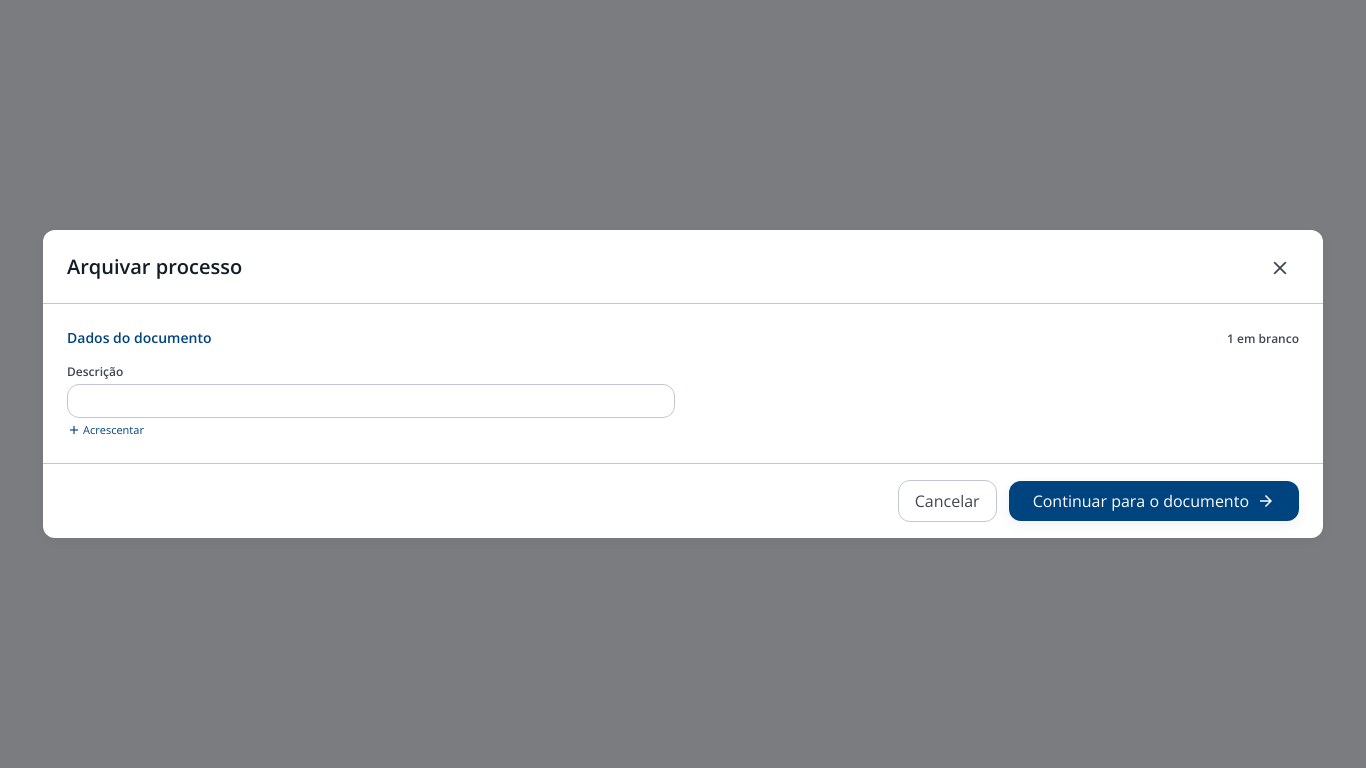
Test: DespachoModal - contexto e quantidade livre de valores › acrescenta quantos valores o caso exigir, sem convenção escondida
O input está associado ao label via htmlFor/id.
Type "piso irregular" into the text box labelled "Descrição" at (371, 401), box [67,384,675,418]
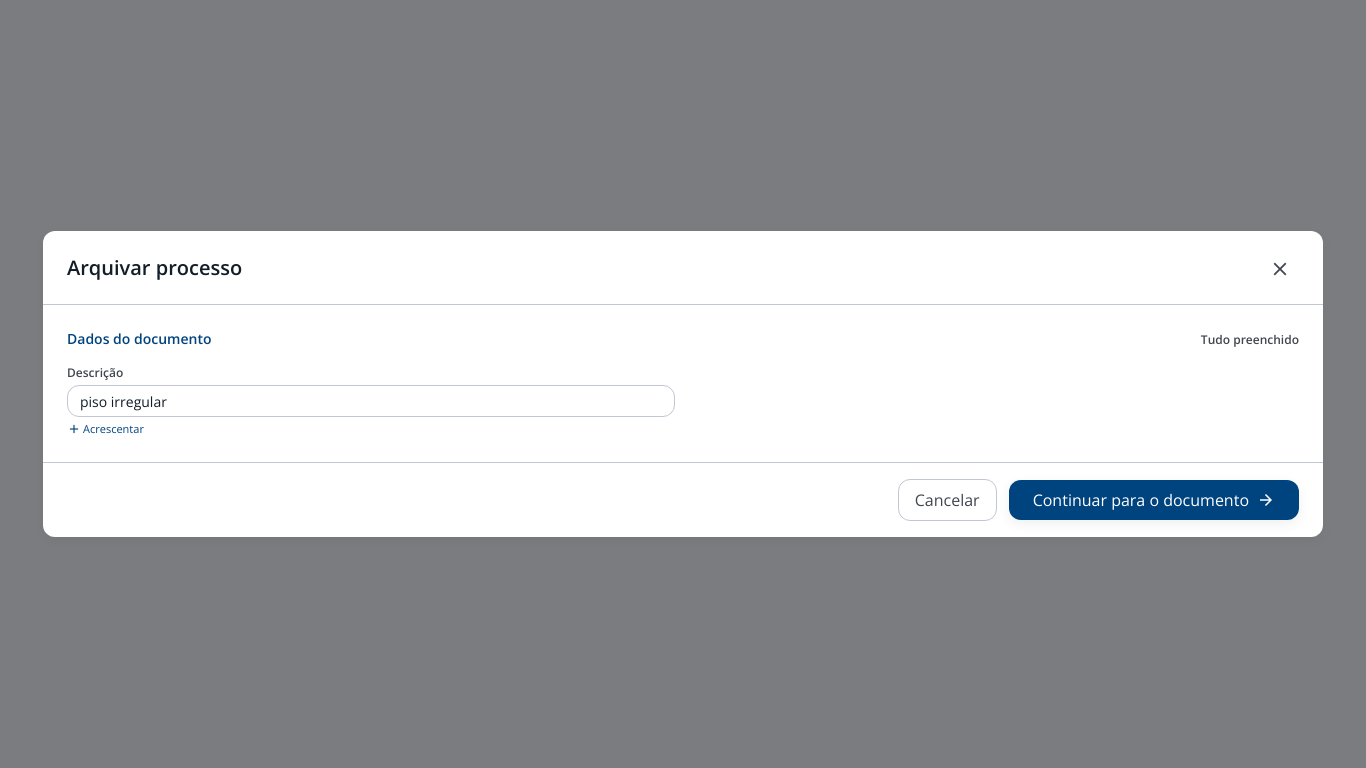
Três condutas numa lacuna que o modelo previa como uma.
Click the button "Acrescentar" at (105, 429), box [67,421,144,438]
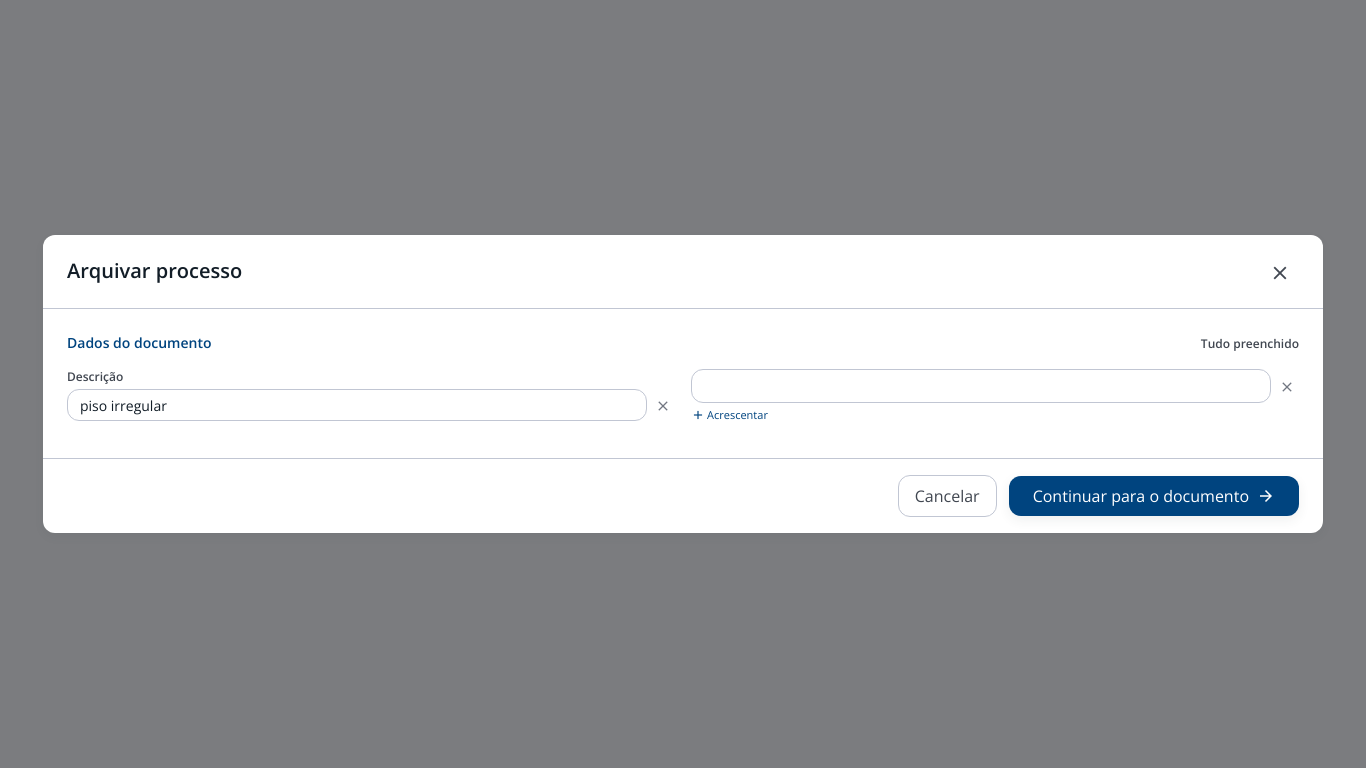
Type "extintor vencido" into the text box named "descrição — valor 2" at (981, 386), box [691,369,1271,403]
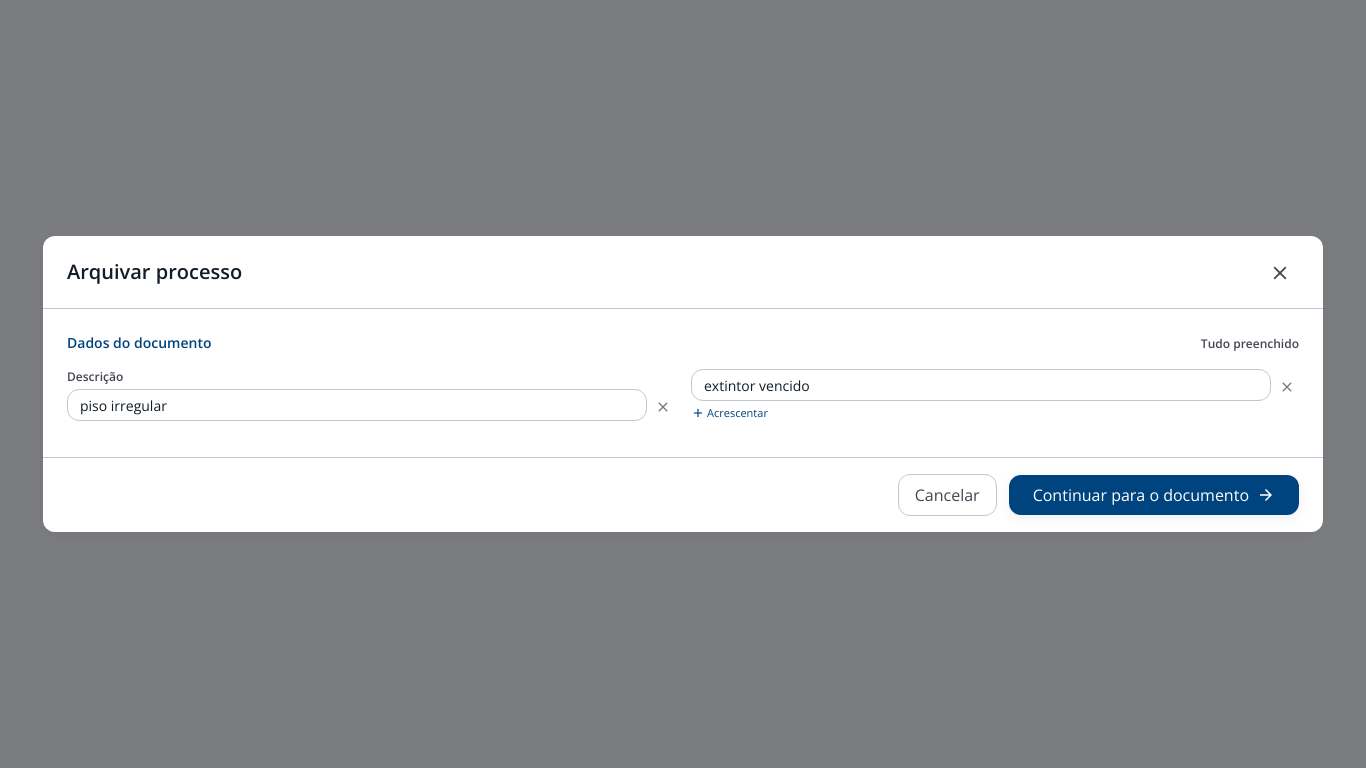
Click the button "Acrescentar" at (729, 413), box [691,405,768,422]
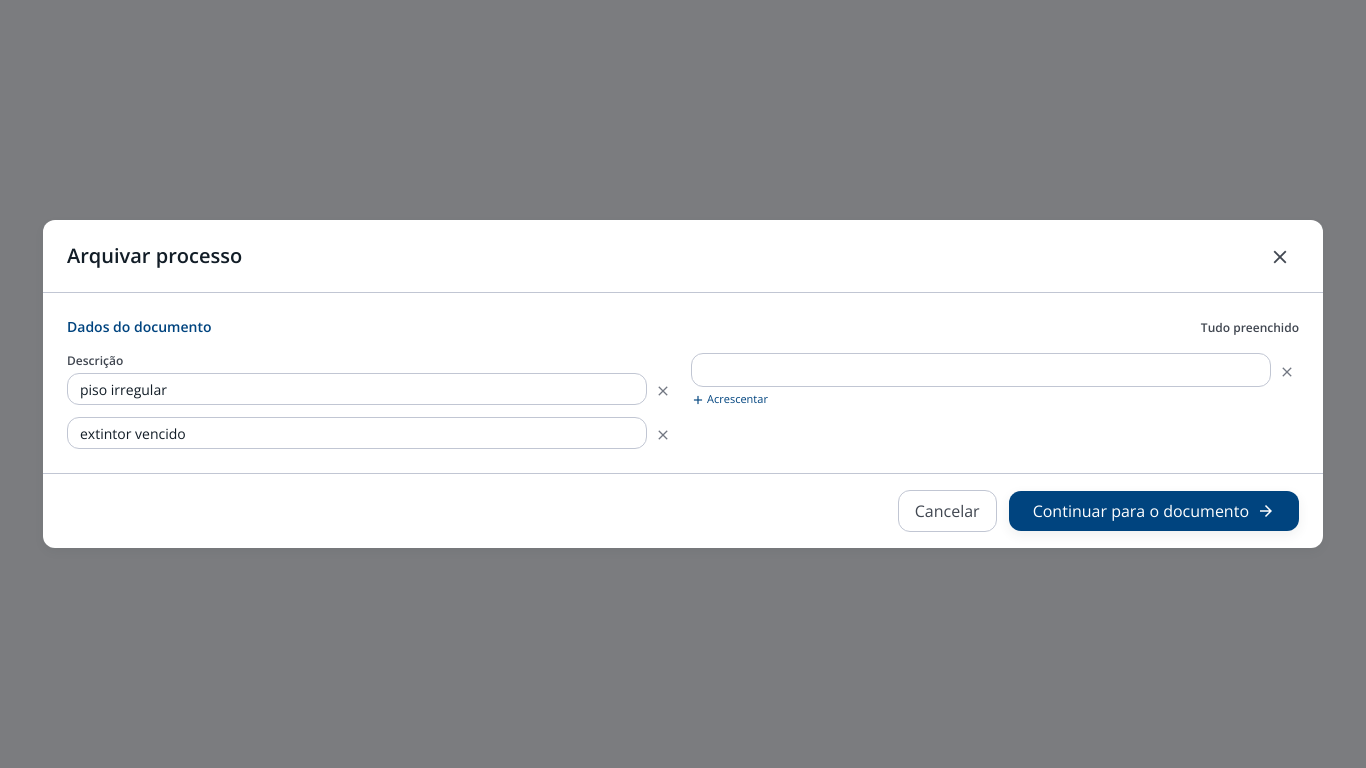
Type "sem sinalização" into the text box named "descrição — valor 3" at (981, 370), box [691,353,1271,387]
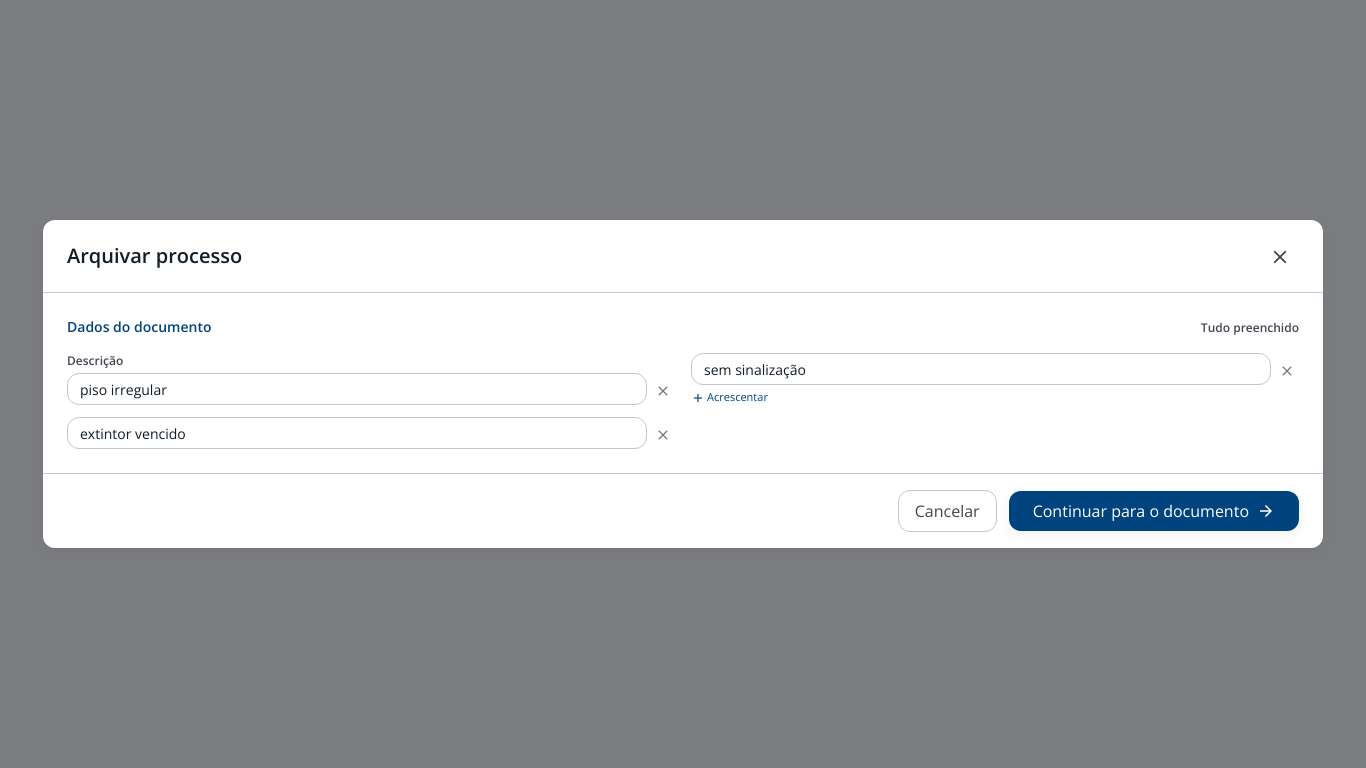
Click the button "Continuar para o documento" at (1154, 511), box [1009,491,1299,531]
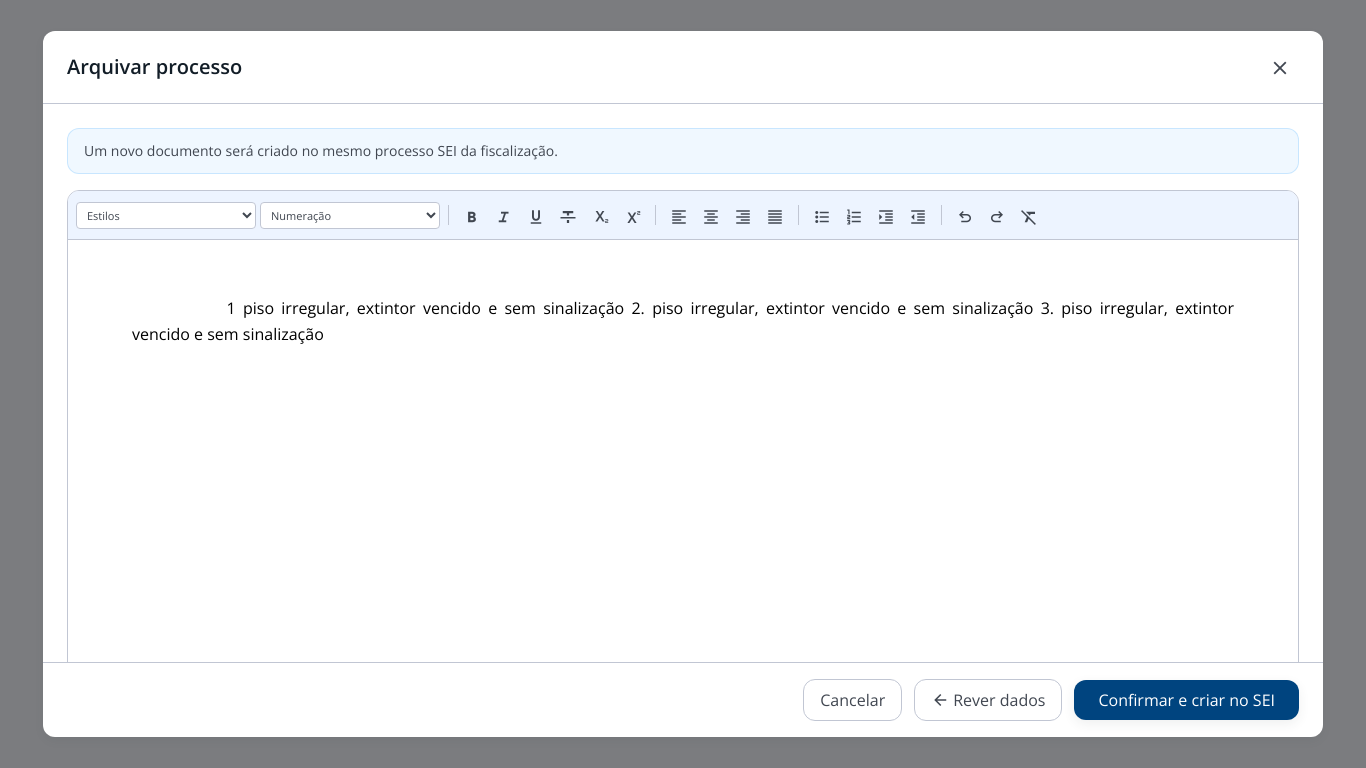
Now the text box named "Editor do documento" shows "1 piso irregular, extintor vencido e sem sinalização", box [68,240,1298,662]
